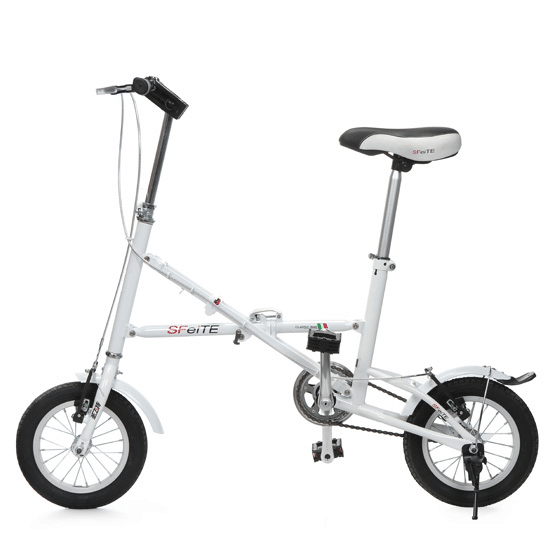MNV: (16, 75, 540, 519)
